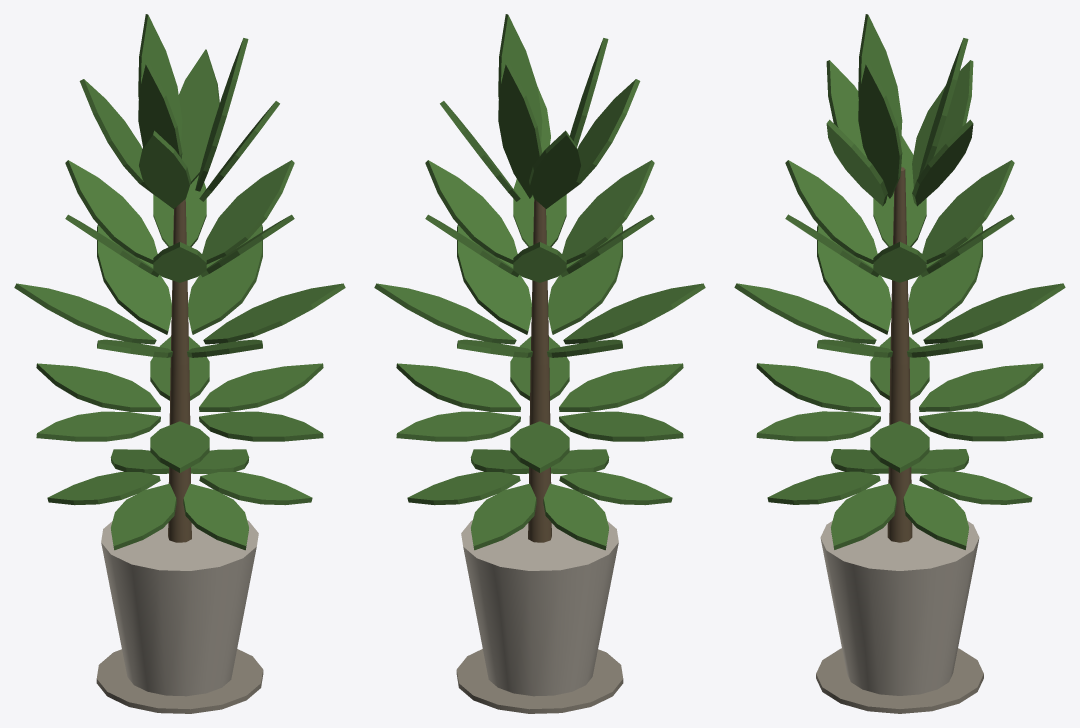
Rendered from plant-lite.glb.
The picture shows the model from 3 angles, left to right: view 1: azimuth 30°, elevation 25°; view 2: azimuth 150°, elevation 25°; view 3: azimuth 270°, elevation 25°; orthographic projection.
Visible parts, largest first — view 1: material-3-foliage, material-0-pot, material-1-base, material-2-frame; view 2: material-3-foliage, material-0-pot, material-1-base, material-2-frame; view 3: material-3-foliage, material-0-pot, material-2-frame, material-1-base.
Part boxes in pixels (left/top/right/bottom): material-3-foliage: left=14, top=14, right=345, bottom=550; material-0-pot: left=101, top=520, right=258, bottom=696; material-1-base: left=96, top=649, right=263, bottom=713; material-2-frame: left=168, top=199, right=191, bottom=542; material-3-foliage: left=374, top=14, right=705, bottom=550; material-0-pot: left=461, top=520, right=618, bottom=696; material-1-base: left=456, top=649, right=623, bottom=713; material-2-frame: left=528, top=199, right=551, bottom=542; material-3-foliage: left=734, top=14, right=1065, bottom=549; material-0-pot: left=820, top=521, right=979, bottom=695; material-2-frame: left=887, top=167, right=912, bottom=542; material-1-base: left=816, top=648, right=983, bottom=713.
Size of the model in its own units: 0.75 by 1.6 by 0.75.
